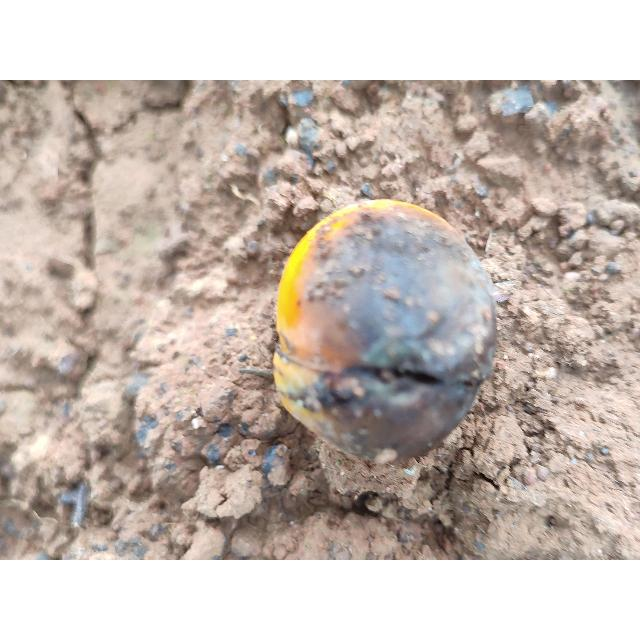damaged: (273, 199, 496, 464)
